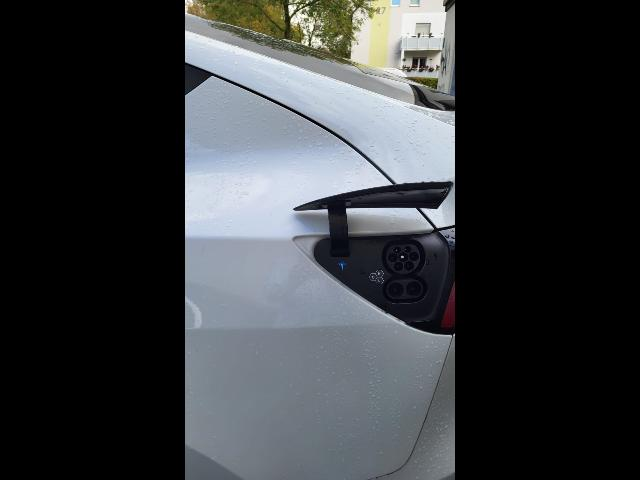inlet: (387, 245, 420, 274)
inlet-above-left: (394, 247, 401, 253)
inlet-above-right: (404, 246, 412, 253)
inlet-below-left: (394, 262, 403, 271)
inlet-below-right: (404, 261, 414, 271)
inlet-circle: (399, 252, 408, 262)
inlet-circle-left: (388, 253, 397, 263)
inlet-circle-right: (409, 252, 419, 262)
inlet-minus: (406, 281, 421, 297)
inlet-plus: (388, 283, 404, 298)
